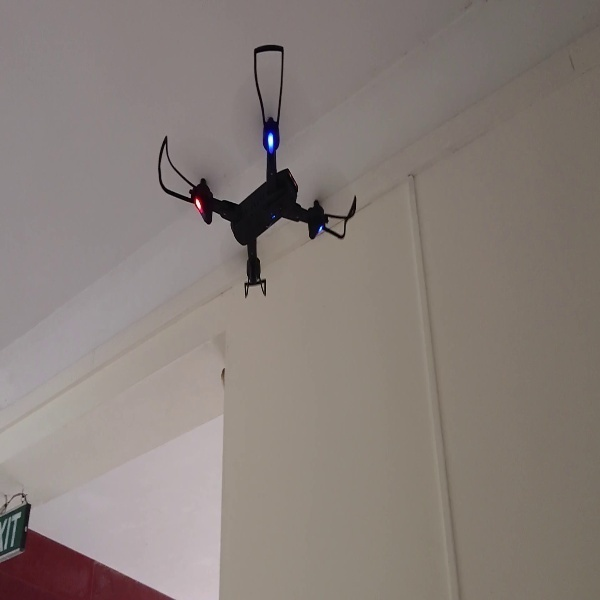drone: (156, 41, 358, 302)
